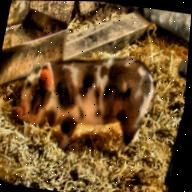boar: (7, 40, 164, 163)
